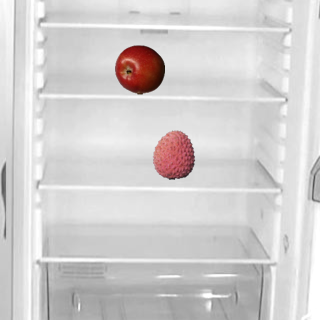Apple Braeburn: (114, 44, 164, 94)
Lychee: (148, 129, 198, 179)
